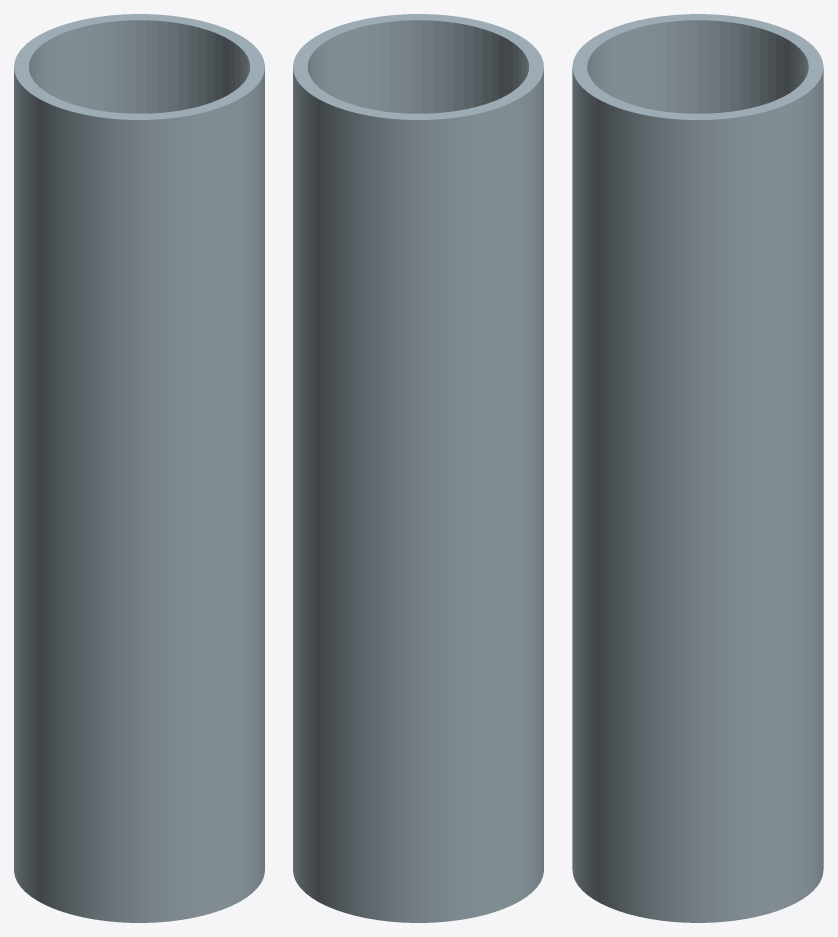
The model's file is water_glass.glb.
3 renders of one model, left to right at view 1: azimuth 30°, elevation 25°; view 2: azimuth 150°, elevation 25°; view 3: azimuth 270°, elevation 25°, orthographic.
Parts seen in each view (by area): view 1: Cylinder.002; view 2: Cylinder.002; view 3: Cylinder.002.
Part boxes in pixels (x1,y1,x2,y2): Cylinder.002: [14, 14, 264, 922]; Cylinder.002: [293, 14, 543, 922]; Cylinder.002: [572, 14, 823, 922].
Bounding box in the file's own units: 1.7 × 6 × 1.7.
